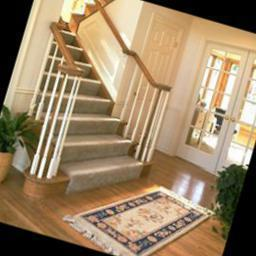Escaleras: (11, 4, 189, 207)
Matera: (201, 163, 247, 237), (0, 108, 39, 194)
Puerta: (171, 42, 256, 180), (119, 17, 191, 143)
